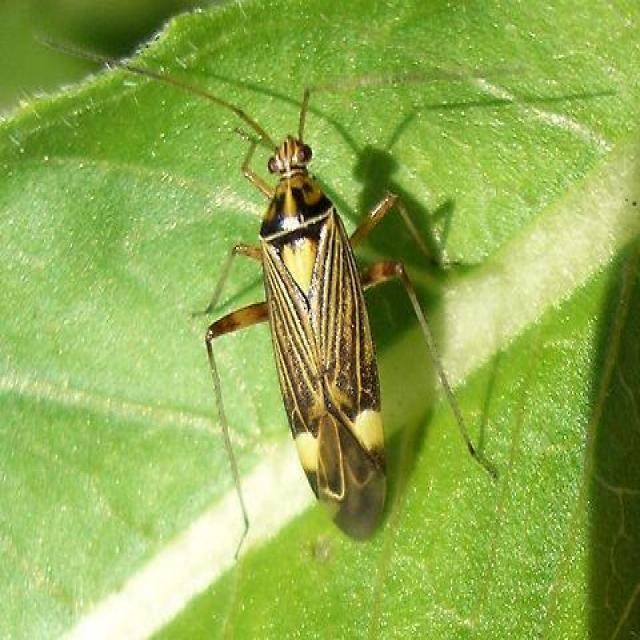Miridae-Adult-: (160, 51, 505, 516)
